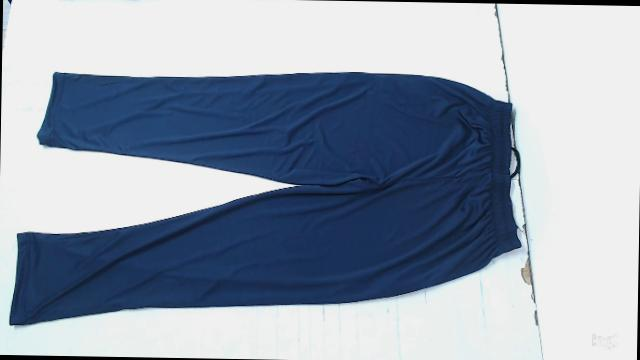new-garment: (10, 72, 519, 324)
